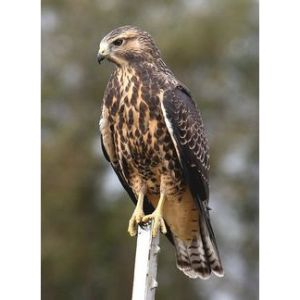hawk: (88, 23, 232, 281)
